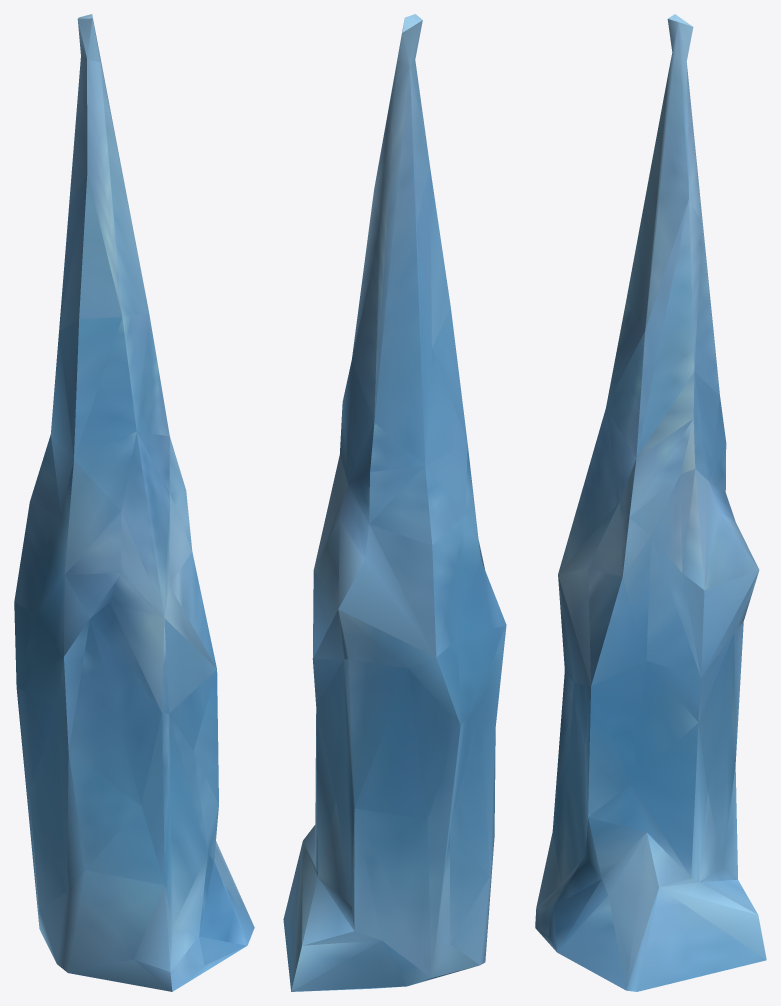
File: pincho_escarcha_0.glb
3 renders of one model, left to right at view 1: azimuth 30°, elevation 25°; view 2: azimuth 150°, elevation 25°; view 3: azimuth 270°, elevation 25°, orthographic. The views are drawn at different scales.
Visible parts, largest first — view 1: pincho_escarcha_0_malla; view 2: pincho_escarcha_0_malla; view 3: pincho_escarcha_0_malla.
Boxes of the visible parts, box(x1,y1,x2,y2) form: pincho_escarcha_0_malla: box(14, 14, 254, 991); pincho_escarcha_0_malla: box(283, 14, 506, 991); pincho_escarcha_0_malla: box(535, 14, 766, 991).
Size of the model in its own units: 0.0611 by 0.2667 by 0.0616.
1 material, 1 textured.
